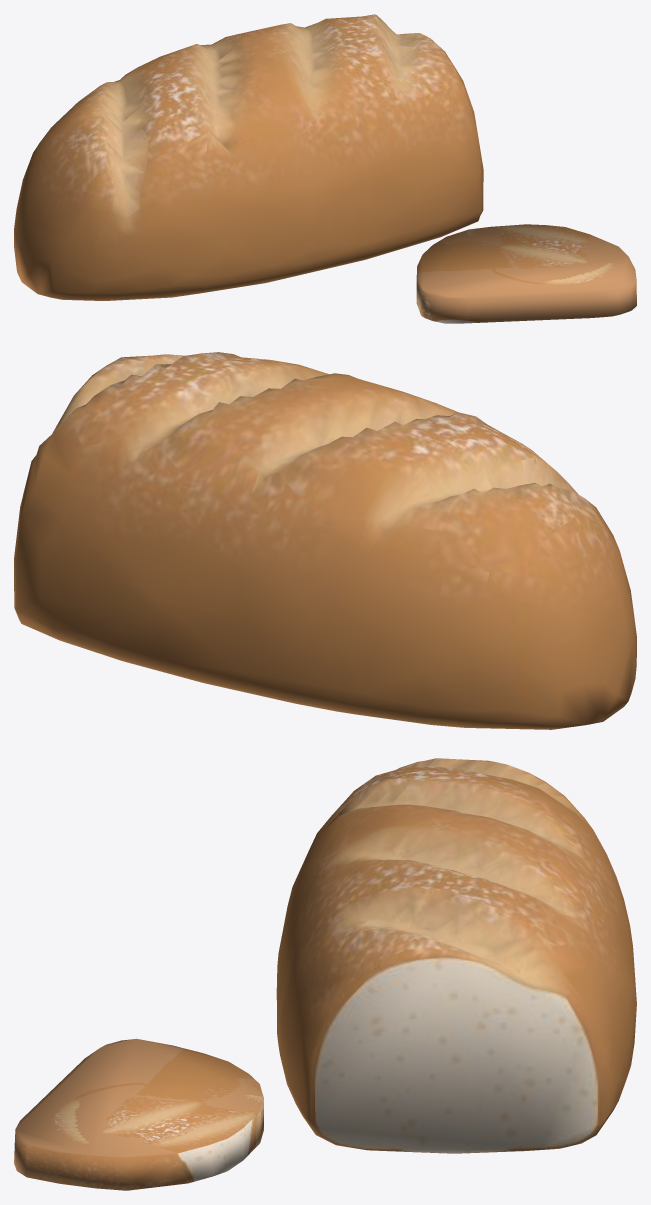
The model's file is food-bread-loaf.glb.
The picture shows the model from 3 angles, top to bottom: view 1: azimuth 30°, elevation 25°; view 2: azimuth 150°, elevation 25°; view 3: azimuth 270°, elevation 25°; orthographic projection. The views are drawn at different scales.
Visible parts, largest first — view 1: bread-loaf_body; view 2: bread-loaf_body; view 3: bread-loaf_body.
Boxes of the visible parts, bbox=[...] form: bread-loaf_body: bbox=[14, 14, 636, 323]; bread-loaf_body: bbox=[14, 352, 636, 729]; bread-loaf_body: bbox=[14, 758, 636, 1190].
Size of the model in its own units: 4 by 1.53 by 3.72.
Materials: 1 (1 with a texture image).
